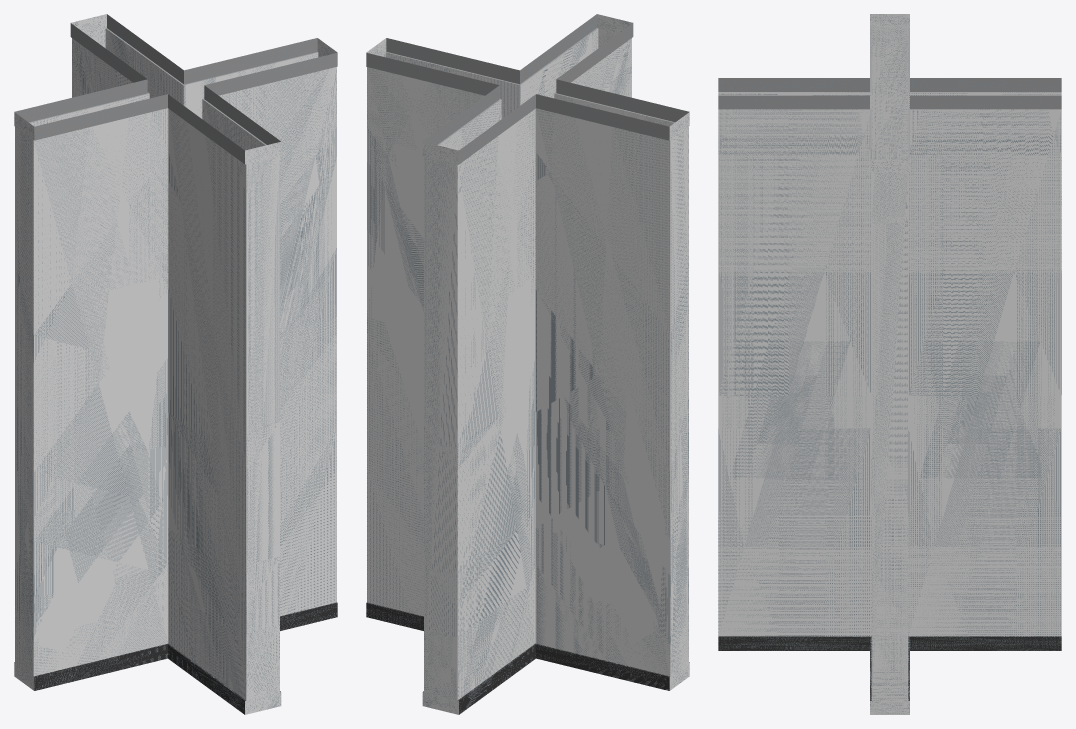
File: Corner_ds_cross_plinth_100x100x025x4.dae
3 renders of one model, left to right at view 1: azimuth 30°, elevation 25°; view 2: azimuth 150°, elevation 25°; view 3: azimuth 270°, elevation 25°, orthographic.
Visible parts, largest first — view 1: group_0 (×7); view 2: group_0 (×7); view 3: group_0 (×7).
Part boxes in pixels (box(x1,y1,x2,y2)): group_0 (×7): box(14, 14, 337, 714); group_0 (×7): box(366, 14, 689, 714); group_0 (×7): box(718, 14, 1061, 714).
Bounding box in the file's own units: 88.58 × 88.19 × 157.
